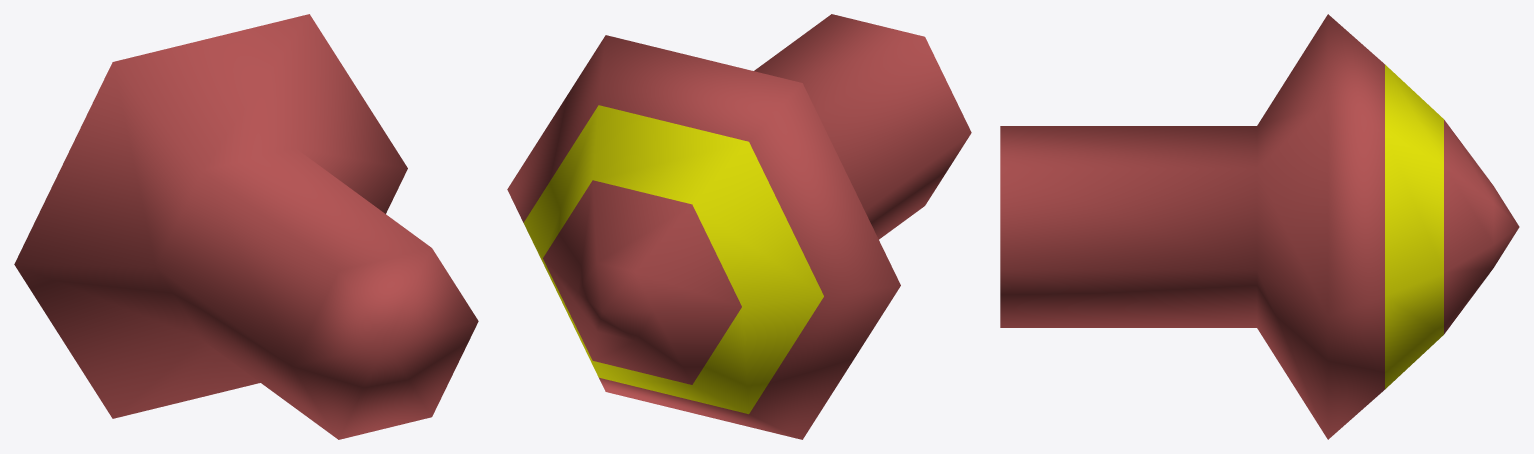
Rendered from RPG Bullet.fbx.
3 renders of one model, left to right at view 1: azimuth 30°, elevation 25°; view 2: azimuth 150°, elevation 25°; view 3: azimuth 270°, elevation 25°, orthographic. The views are drawn at different scales.
Visible parts, largest first — view 1: pCylinder8; view 2: pCylinder8; view 3: pCylinder8.
Boxes of the visible parts, x1,y1,x2,y2 form: pCylinder8: (14, 14, 478, 439); pCylinder8: (507, 14, 971, 439); pCylinder8: (1000, 14, 1519, 439).
Bounding box in the file's own units: 39.47 × 34.18 × 47.92.
